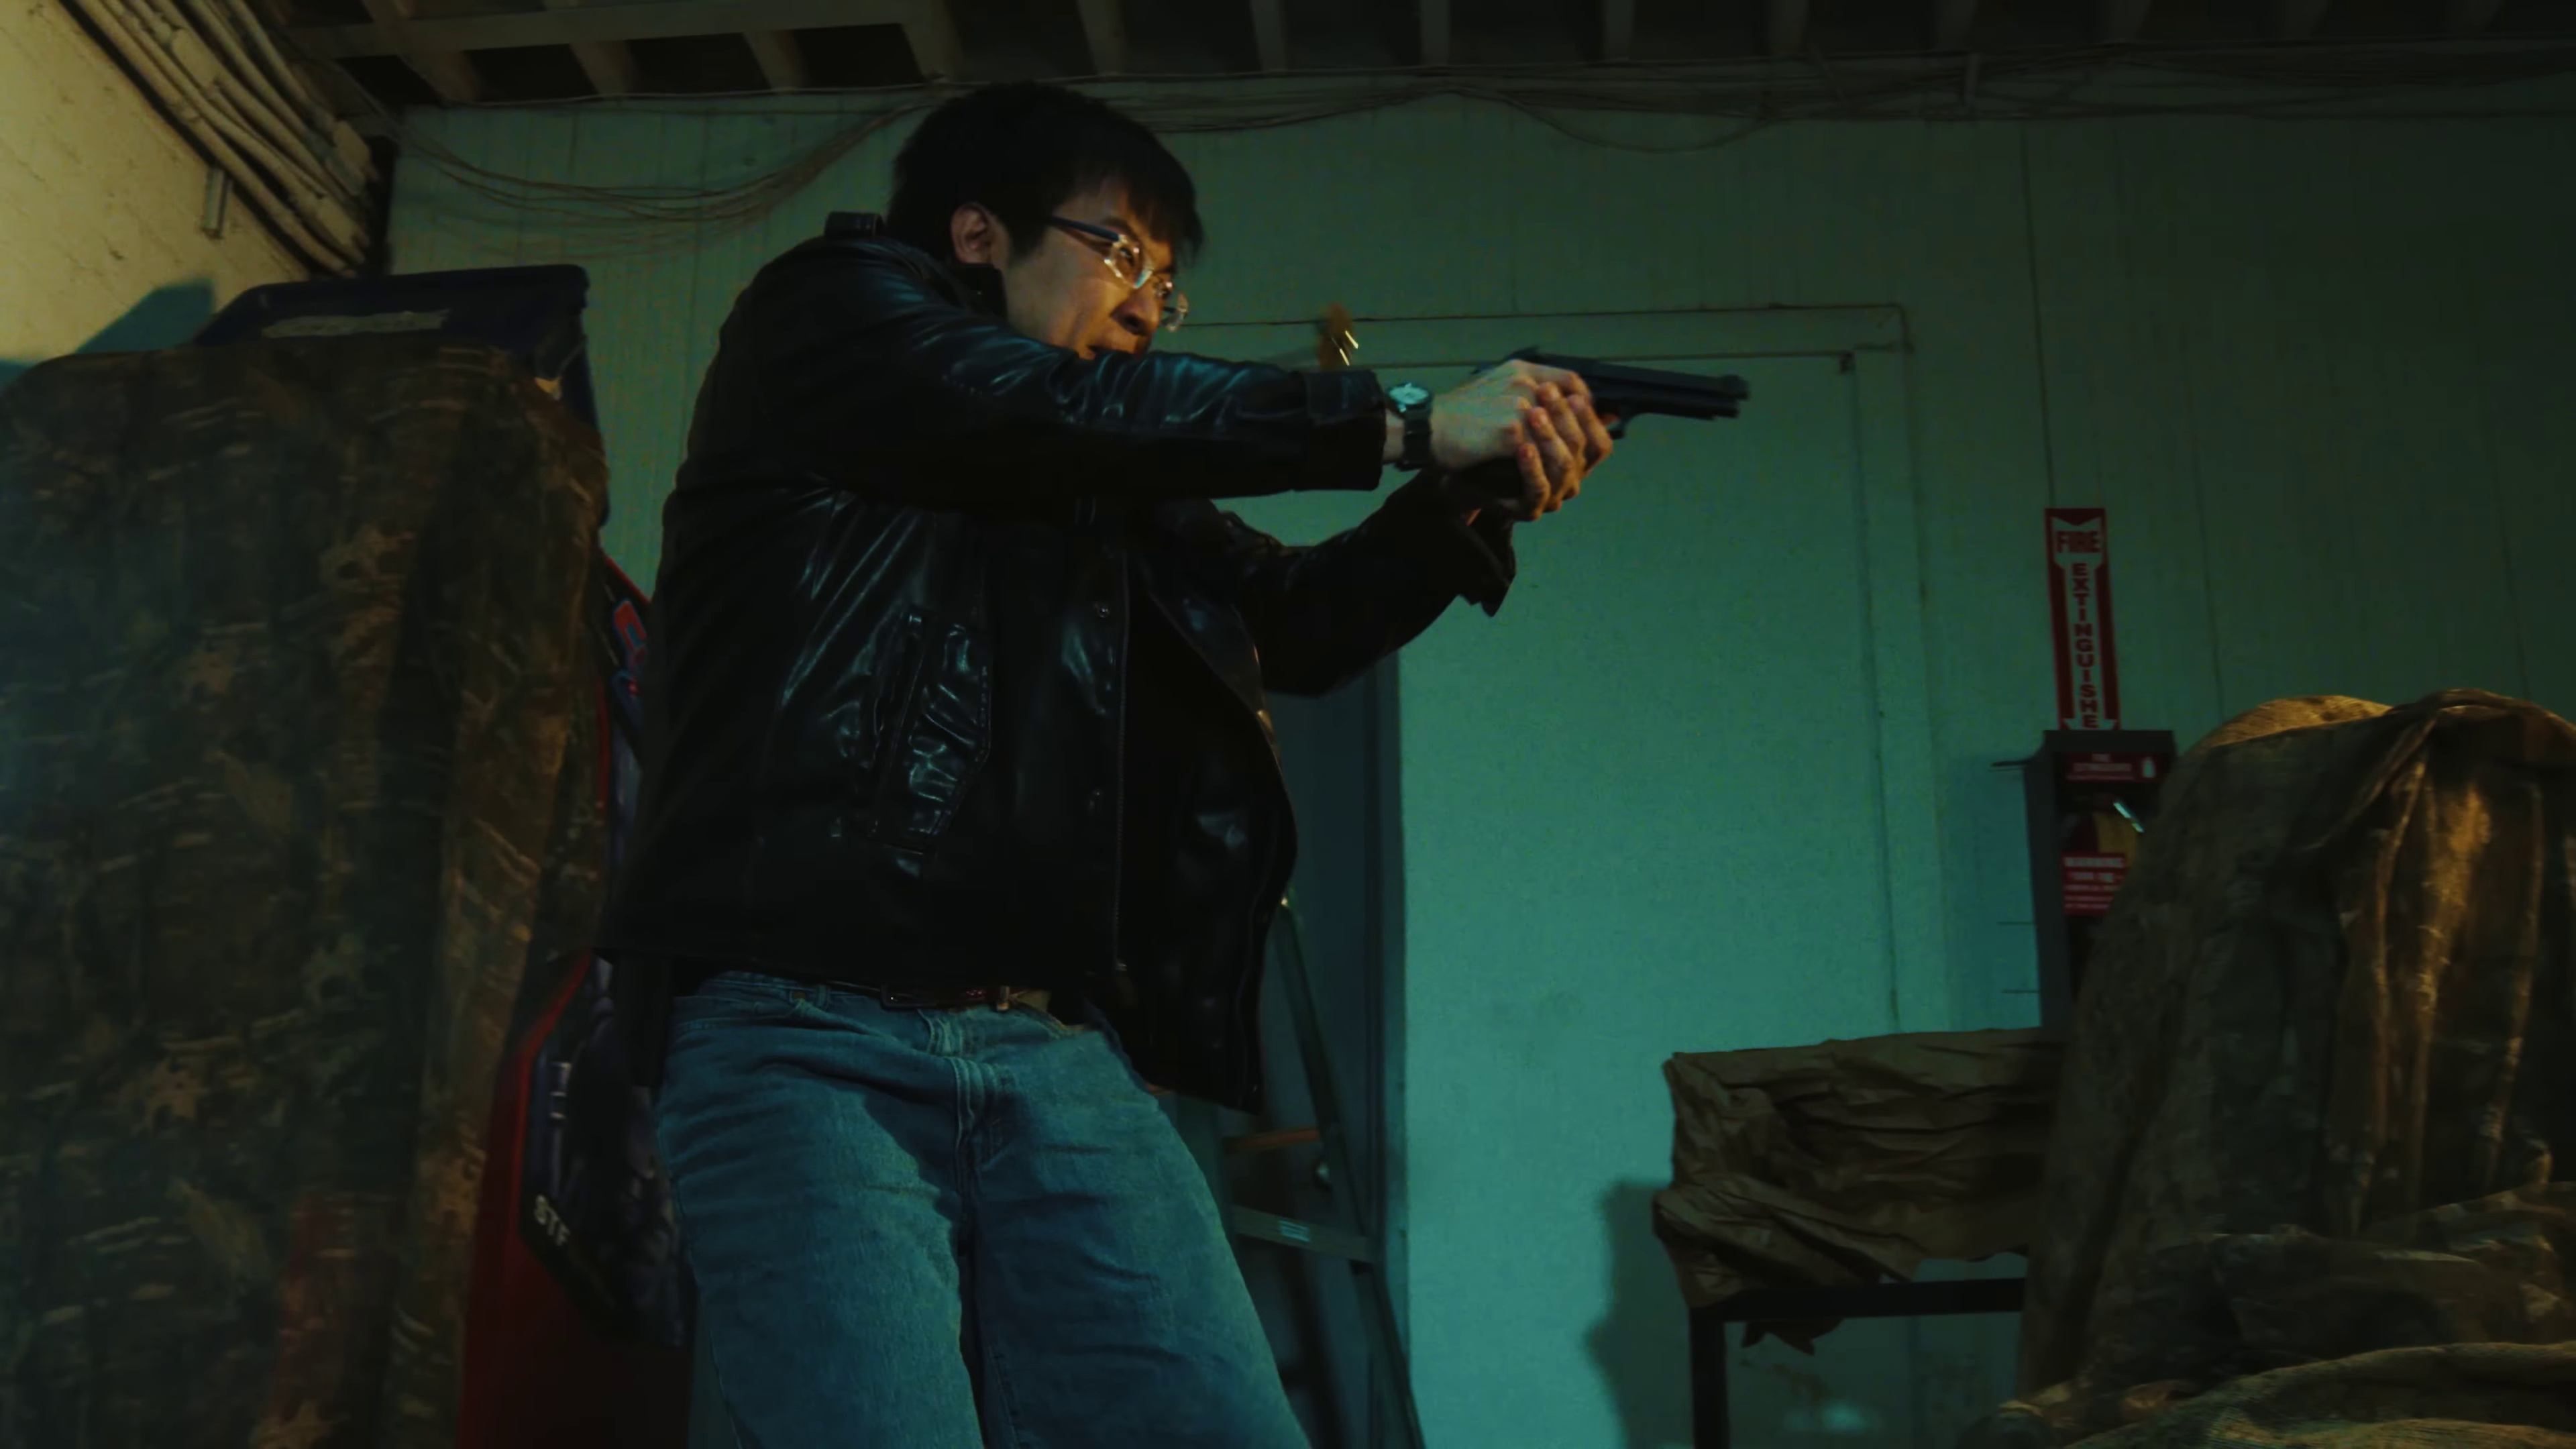gun: (1460, 336, 1753, 527)
p_w_gun: (617, 76, 1755, 1449)
